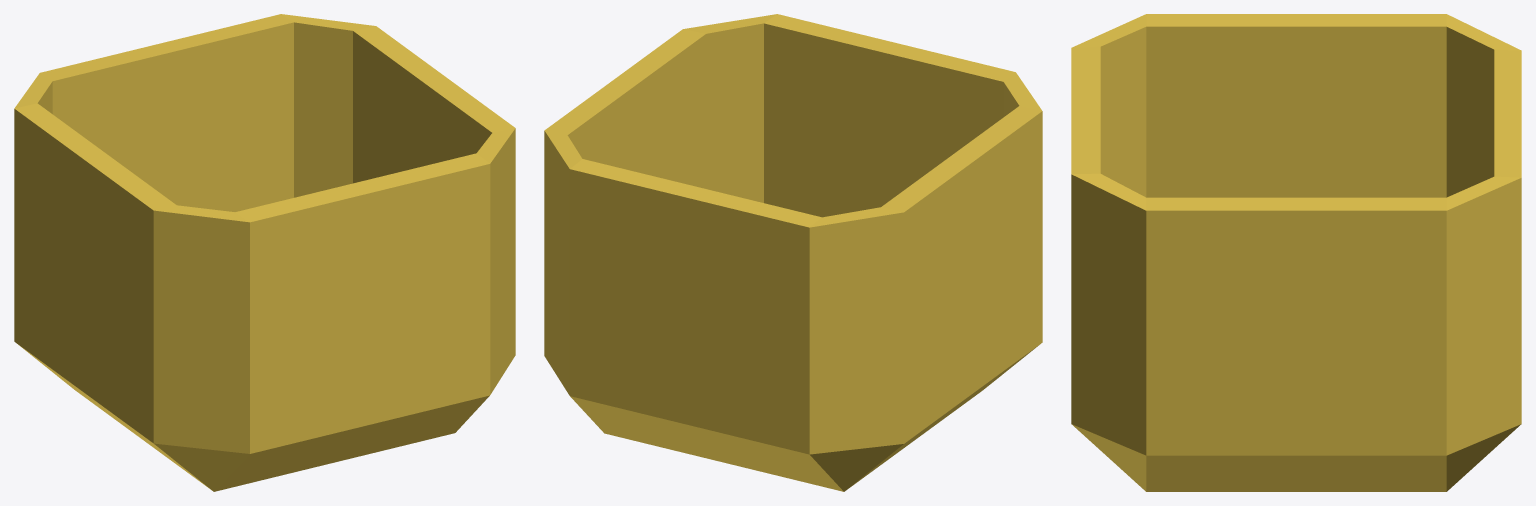
The model's file is bucket.fbx.
3 views of the same model, side by side, from view 1: azimuth 30°, elevation 25°; view 2: azimuth 150°, elevation 25°; view 3: azimuth 270°, elevation 25° (orthographic). The views are drawn at different scales.
Parts seen in each view (by area): view 1: Cube; view 2: Cube; view 3: Cube.
Part boxes in pixels (x1,y1,x2,y2): Cube: [14, 14, 515, 491]; Cube: [544, 14, 1042, 491]; Cube: [1071, 14, 1521, 491].
Bounding box in the file's own units: 300 × 235 × 300.
